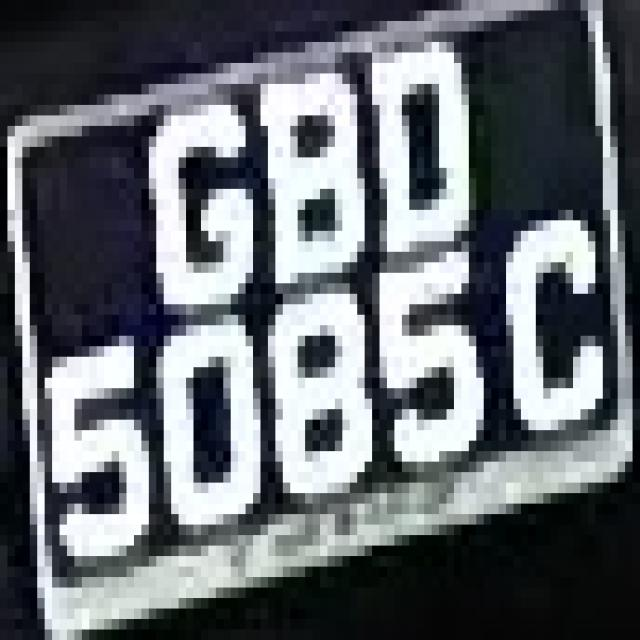0: (149, 304, 268, 546)
5: (22, 325, 164, 598), (357, 252, 491, 482)
8: (253, 273, 387, 514)
B: (246, 42, 364, 304)
C: (499, 210, 610, 451)
D: (357, 10, 476, 273)
G: (127, 63, 276, 336)
